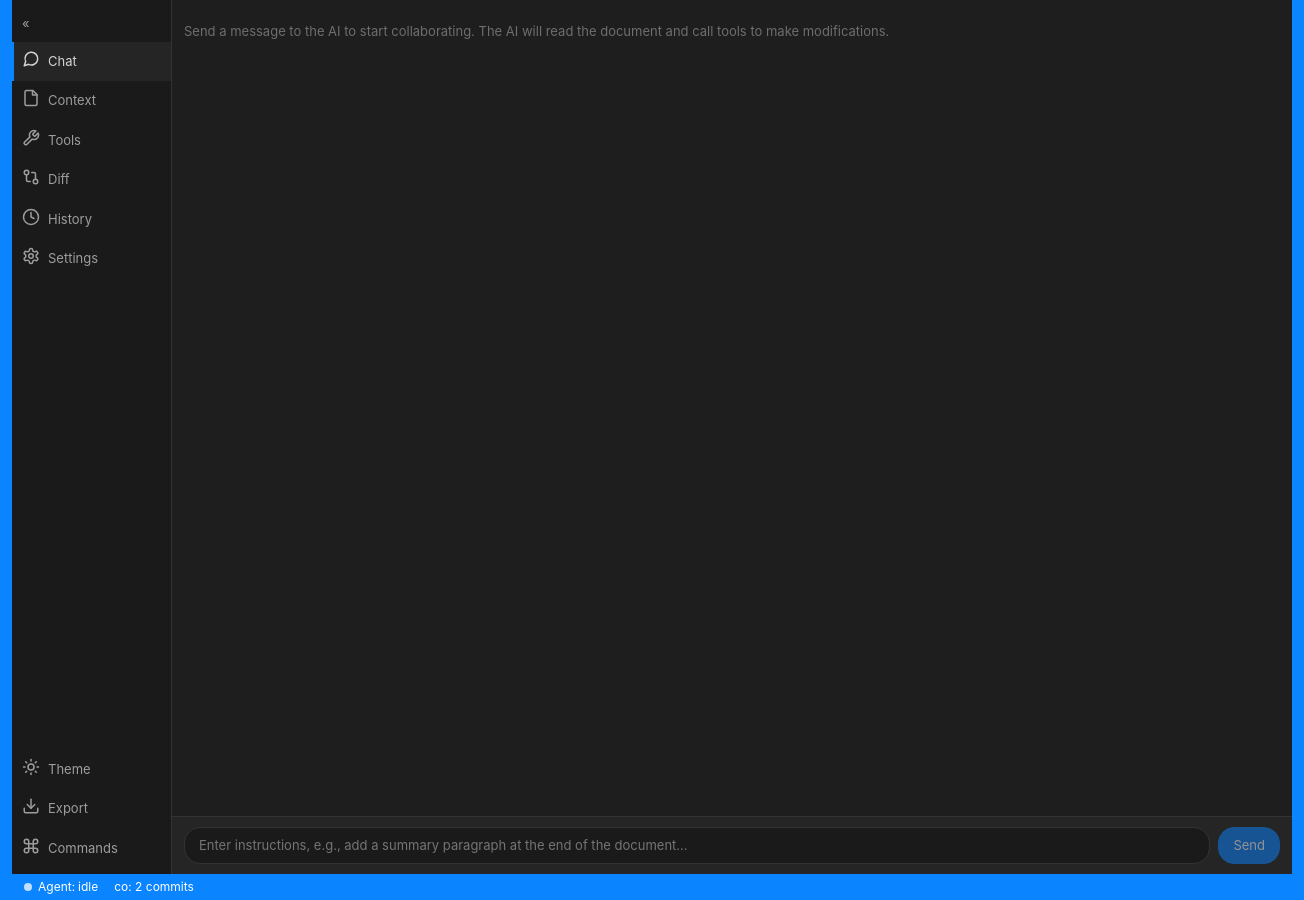
it: Agent Deck › shows the agent's changes in a review bar above the composer
Type "Add a summary" into the field named "Message Input" at (697, 845), box x1=184 y1=826 x2=1210 y2=864
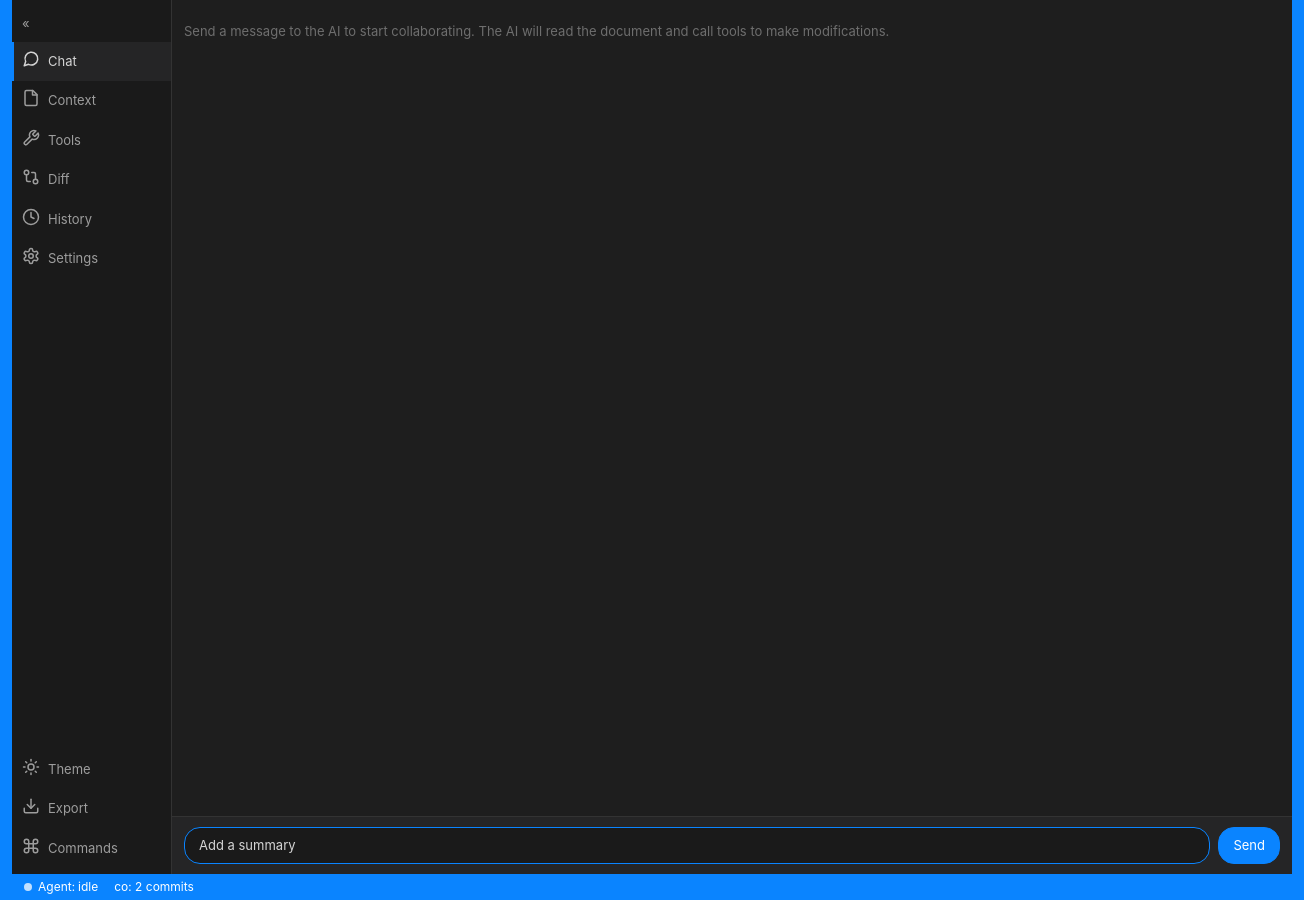
Click the button "Send" at (1249, 845), box x1=1218 y1=826 x2=1280 y2=864
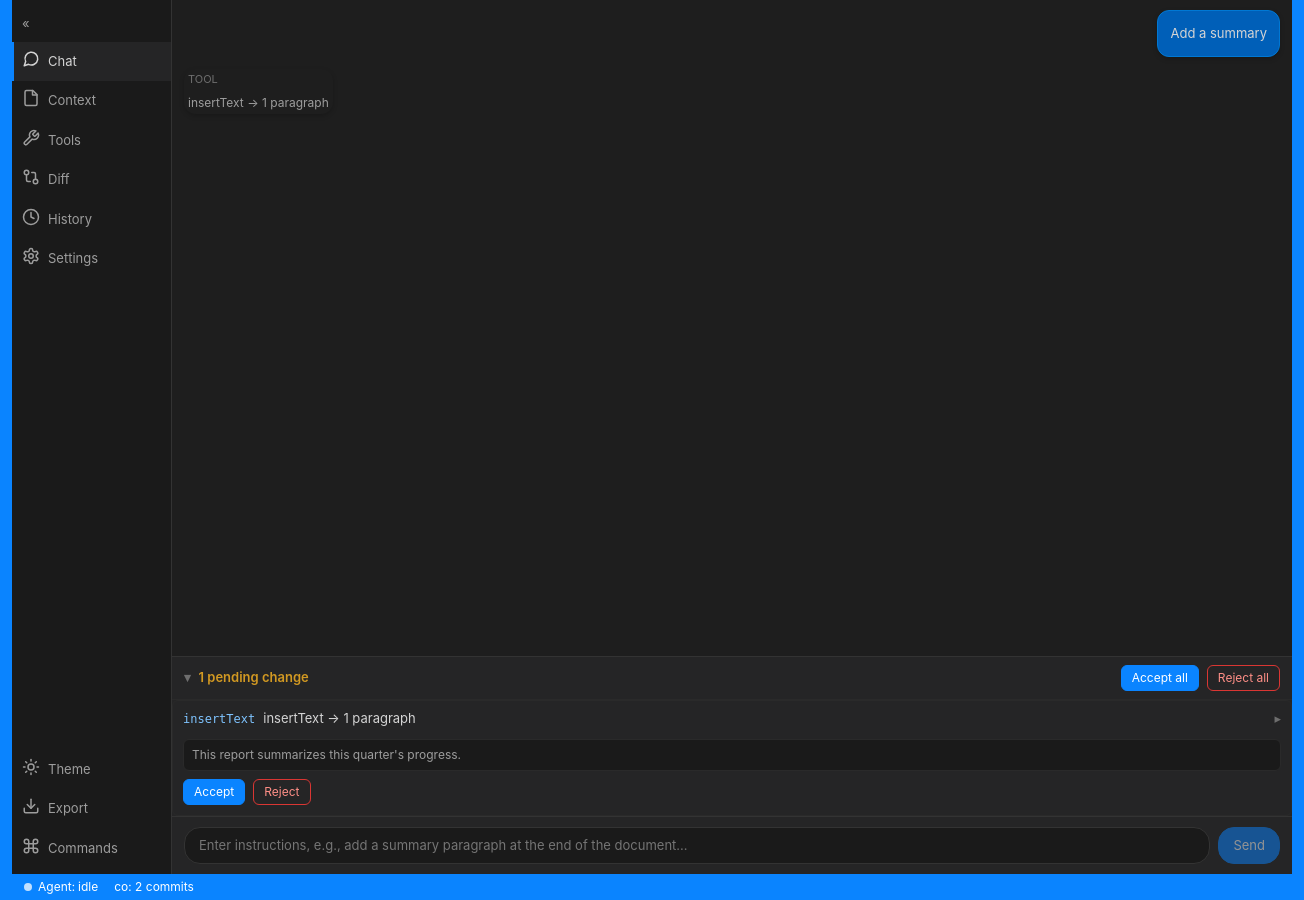
expect the text "1 pending change" is shown: met, box x1=198 y1=668 x2=309 y2=688
expect the 2nd text "insertText → 1 paragraph" is shown: met, box x1=263 y1=710 x2=416 y2=726
expect the text "This report summarizes this quarter's progress." is shown: met, box x1=183 y1=738 x2=1281 y2=770
